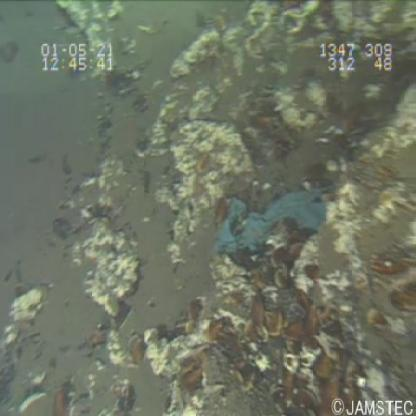Rác: (207, 185, 344, 256)
